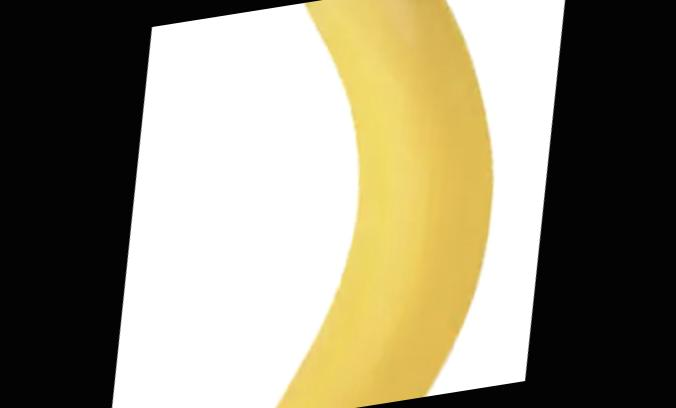Banana Ripe: (138, 0, 562, 408)
